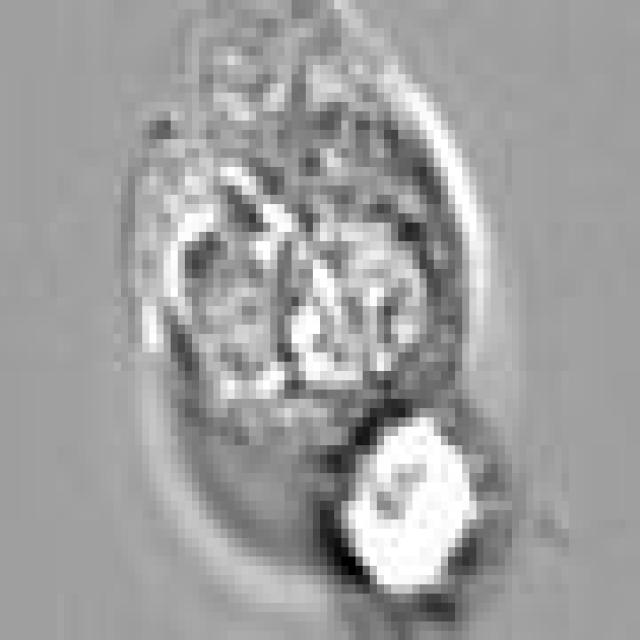Cancer Cell: (142, 9, 476, 454)
WBC: (334, 399, 491, 612)
